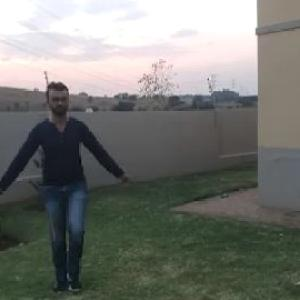land: (1, 81, 123, 295)
